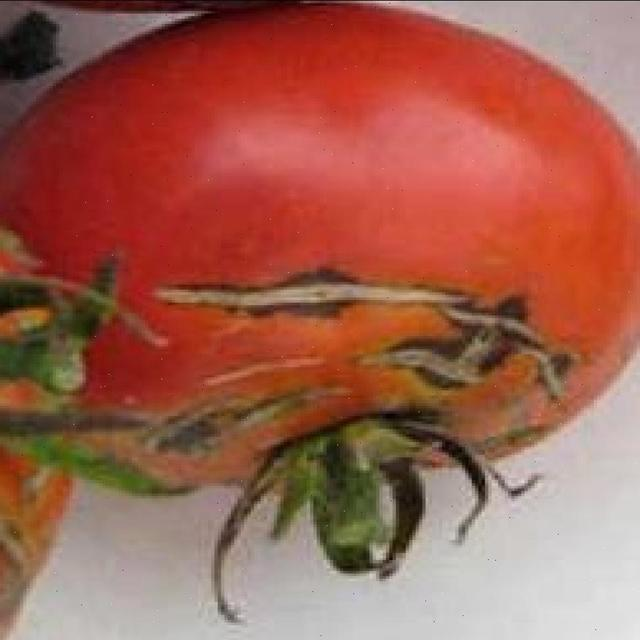Cracking Fruit: (64, 28, 349, 297)
